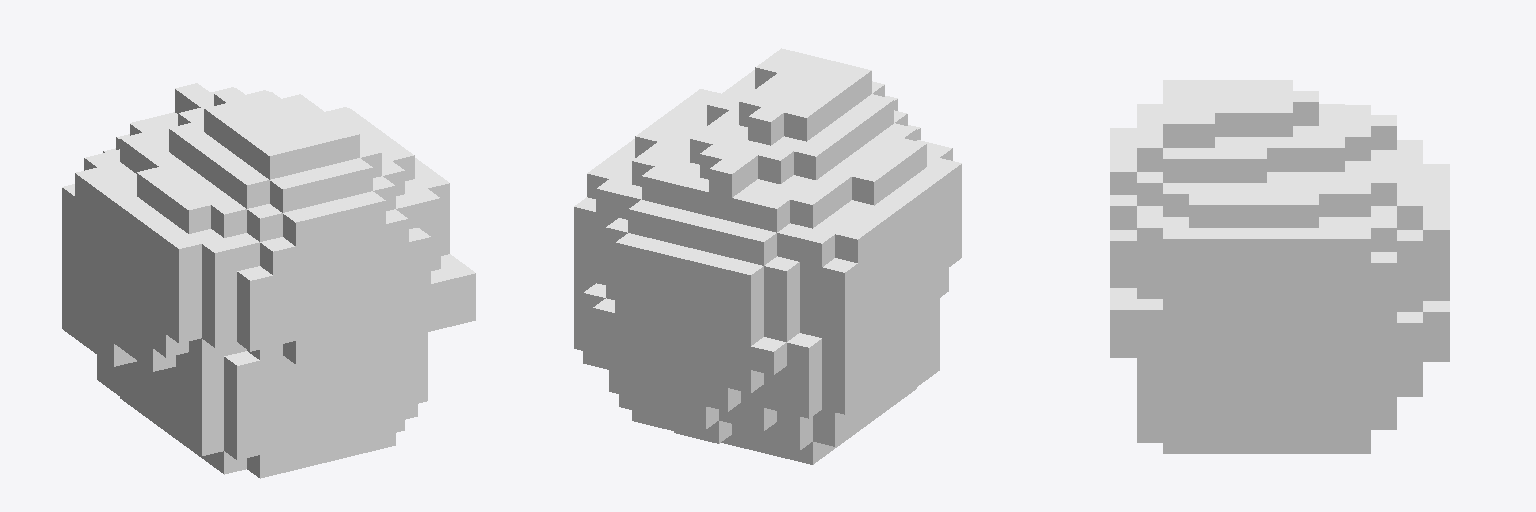
File: char_head.obj
3 renders of one model, left to right at view 1: azimuth 30°, elevation 25°; view 2: azimuth 150°, elevation 25°; view 3: azimuth 270°, elevation 25°, orthographic.
Bounding box in the file's own units: 12 × 13 × 13.